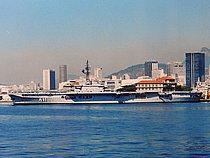MIL_Ship: (8, 58, 203, 104)
